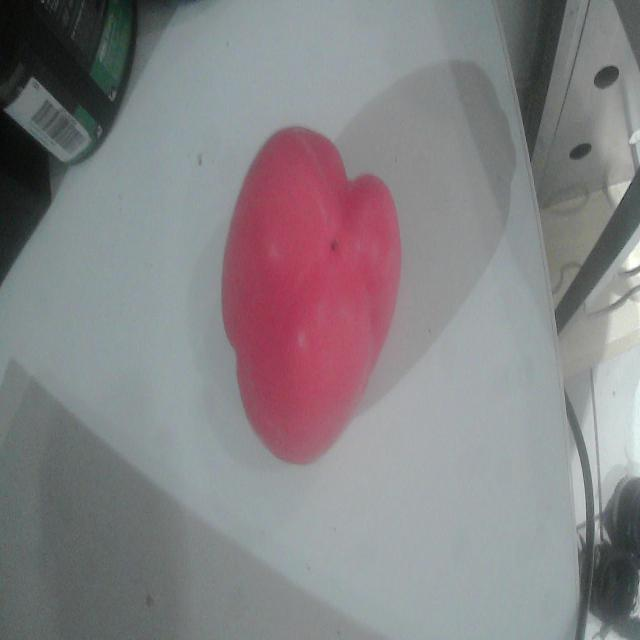Bell Pepper: (222, 128, 401, 463)
